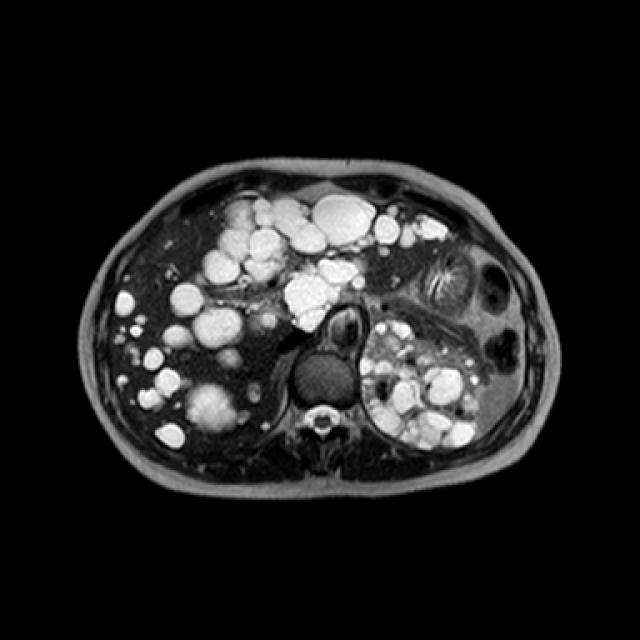sol: (360, 319, 483, 451)
